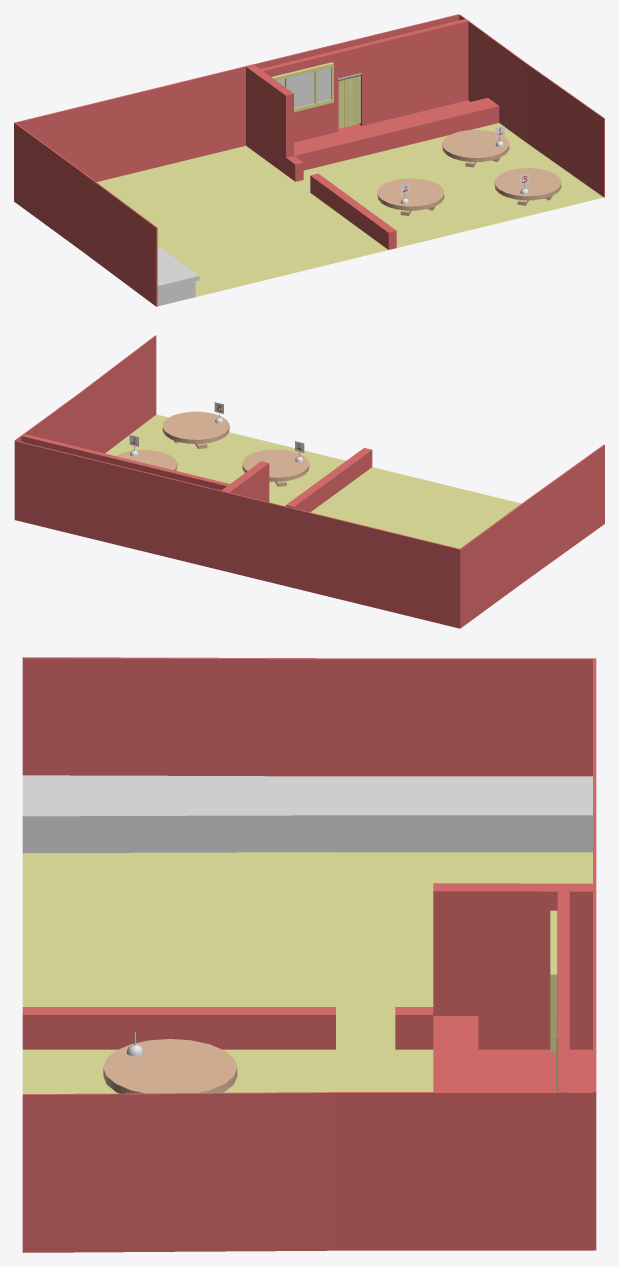
Rendered from overseasoned map.fbx.
3 renders of one model, top to bottom at view 1: azimuth 30°, elevation 25°; view 2: azimuth 150°, elevation 25°; view 3: azimuth 270°, elevation 25°, orthographic. The views are drawn at different scales.
Parts seen in each view (by area): view 1: pCube3, pCylinder3, pCylinder4, pCylinder5, pPlane2; view 2: pCube3, pCylinder5, pCylinder4, pCylinder3; view 3: pCube3, pCylinder4.
Boxes of the visible parts, bbox=[...] form: pCube3: bbox=[14, 14, 604, 306]; pCylinder3: bbox=[442, 129, 509, 167]; pCylinder4: bbox=[377, 178, 444, 215]; pCylinder5: bbox=[494, 168, 561, 205]; pPlane2: bbox=[338, 75, 360, 128]; pCube3: bbox=[14, 335, 604, 628]; pCylinder5: bbox=[162, 411, 229, 448]; pCylinder4: bbox=[242, 449, 309, 486]; pCylinder3: bbox=[116, 450, 177, 470]; pCube3: bbox=[22, 657, 596, 1252]; pCylinder4: bbox=[103, 1039, 237, 1093].
Size of the model in its own units: 11104 by 1872 by 6147.
7 materials, 1 textured.
